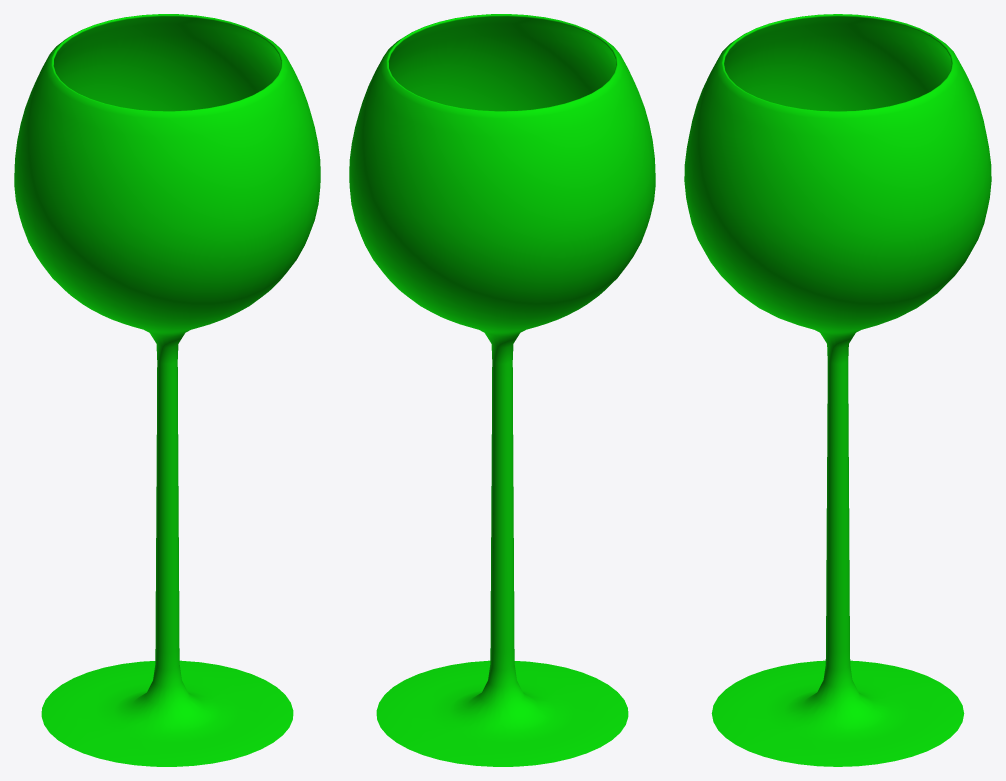
File: Glass9_LOD_0.fbx
3 views of the same model, side by side, from view 1: azimuth 30°, elevation 25°; view 2: azimuth 150°, elevation 25°; view 3: azimuth 270°, elevation 25° (orthographic).
Visible parts, largest first — view 1: Glass9_LOD_0; view 2: Glass9_LOD_0; view 3: Glass9_LOD_0.
Part boxes in pixels (x1,y1,x2,y2): Glass9_LOD_0: [14, 14, 320, 766]; Glass9_LOD_0: [349, 14, 655, 766]; Glass9_LOD_0: [684, 14, 991, 766].
Size of the model in its own units: 2.15 by 5.06 by 2.15.
